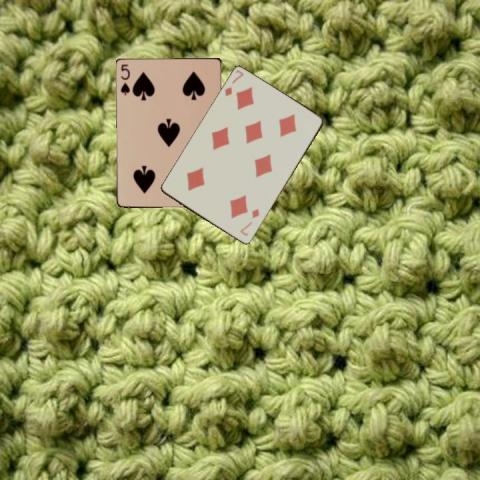5s: (117, 61, 131, 97)
7d: (237, 206, 261, 237), (222, 67, 246, 98)
